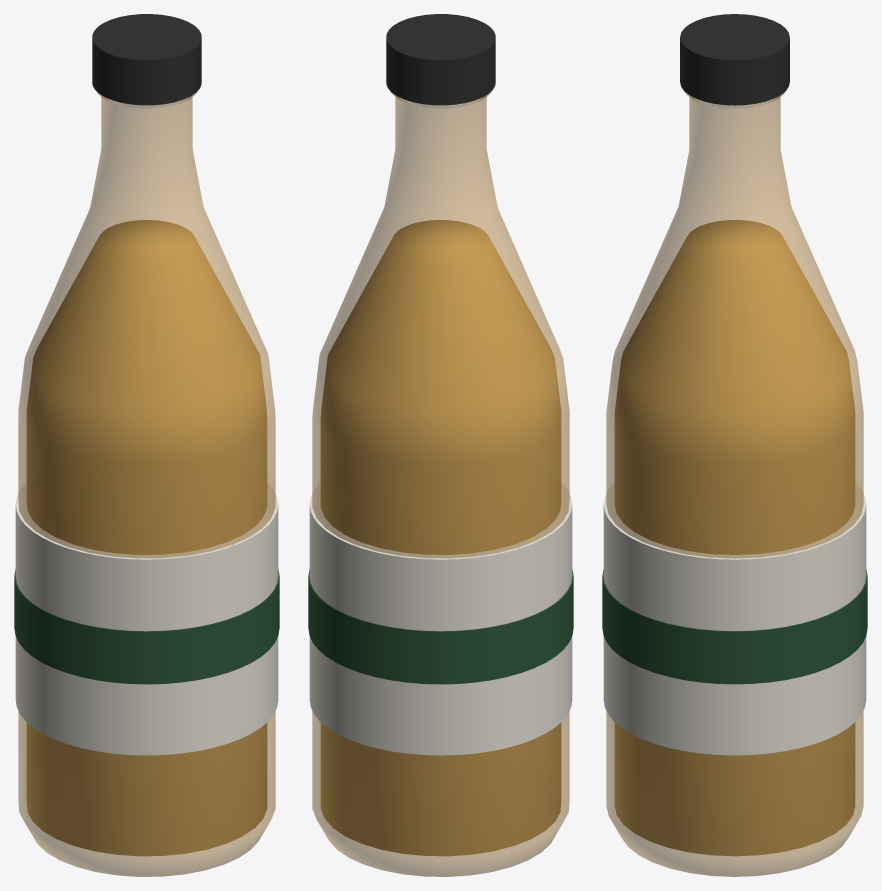
The model's file is bibite-kombucha-laverve.glb.
The picture shows the model from 3 angles, left to right: view 1: azimuth 30°, elevation 25°; view 2: azimuth 150°, elevation 25°; view 3: azimuth 270°, elevation 25°; orthographic projection.
Size of the model in its own units: 0.0638 by 0.21 by 0.0638.
